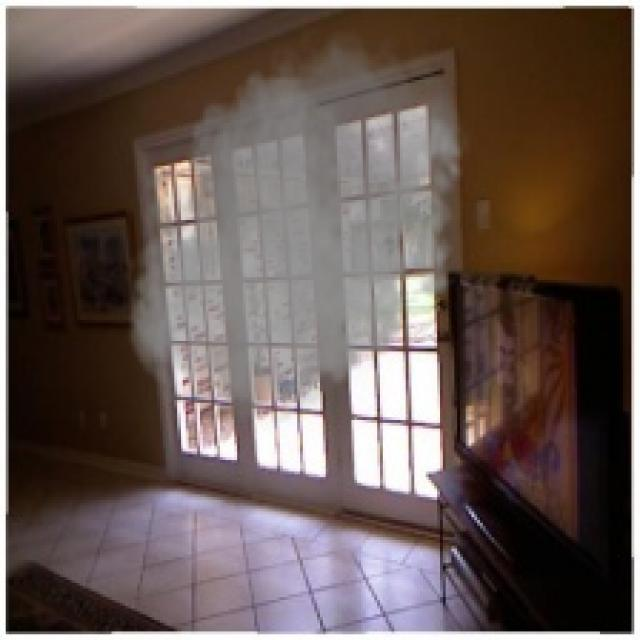Smoke: (122, 17, 474, 432)
